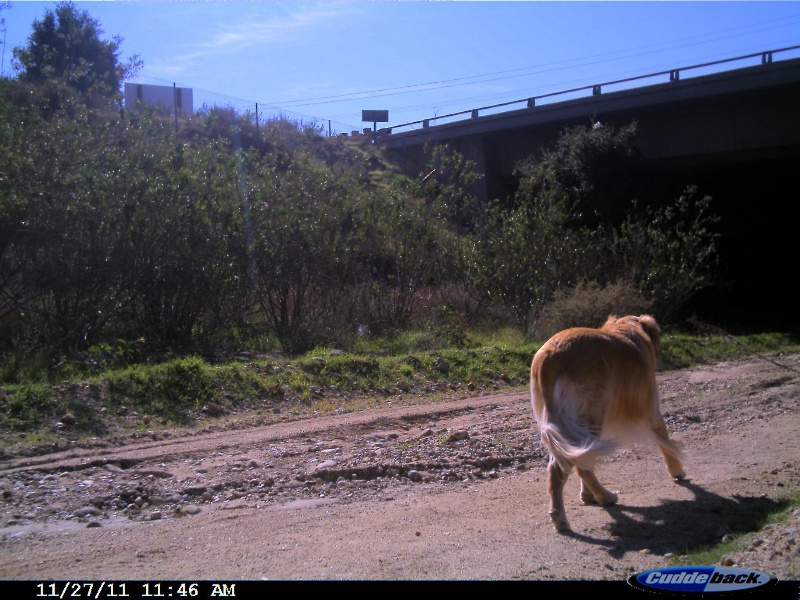dog: (521, 304, 689, 537)
